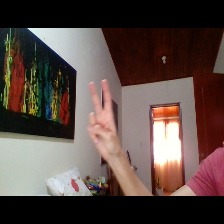KP: (82, 76, 125, 165)
